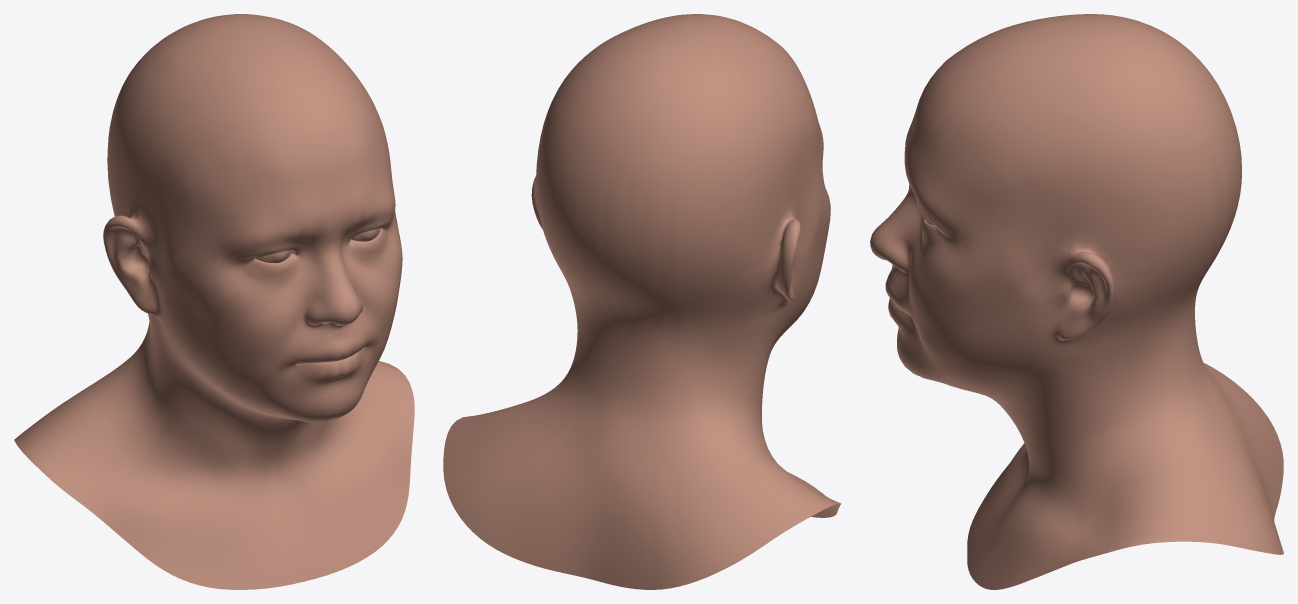
Rendered from gnm_female_asian_03.obj.
The picture shows the model from 3 angles, left to right: view 1: azimuth 30°, elevation 25°; view 2: azimuth 150°, elevation 25°; view 3: azimuth 270°, elevation 25°; orthographic projection. The views are drawn at different scales.
Visible parts, largest first — view 1: GNM_Female_Asian; view 2: GNM_Female_Asian; view 3: GNM_Female_Asian.
Part boxes in pixels (x1=…): GNM_Female_Asian: x1=14, y1=14, x2=414, y2=589; GNM_Female_Asian: x1=443, y1=14, x2=841, y2=589; GNM_Female_Asian: x1=870, y1=14, x2=1283, y2=589.
Size of the model in its own units: 0.2582 by 0.3394 by 0.2415.
